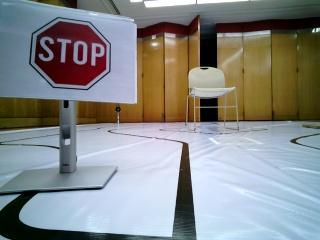stop: (0, 9, 130, 96), (39, 60, 39, 66)
